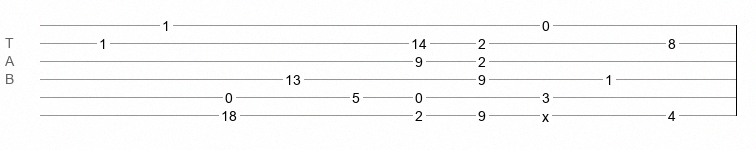0: (225, 90, 233, 100), (415, 90, 423, 100), (542, 18, 550, 28)
1: (99, 36, 107, 46), (162, 18, 170, 28), (605, 72, 613, 82)
13: (285, 72, 301, 82)
14: (411, 36, 427, 46)
18: (221, 108, 237, 118)
2: (415, 108, 423, 118), (478, 36, 486, 46), (478, 54, 486, 64)
3: (542, 90, 550, 100)
4: (668, 108, 676, 118)
5: (352, 90, 360, 100)
8: (668, 36, 676, 46)
9: (415, 54, 423, 64), (478, 72, 486, 82), (478, 108, 486, 118)
x: (542, 109, 549, 117)
